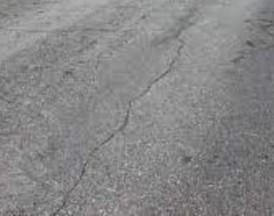alligator-crack: (47, 91, 142, 214)
crack: (152, 7, 201, 49), (144, 51, 181, 89)
pothole: (57, 68, 81, 90), (244, 16, 274, 30), (95, 47, 117, 63)
